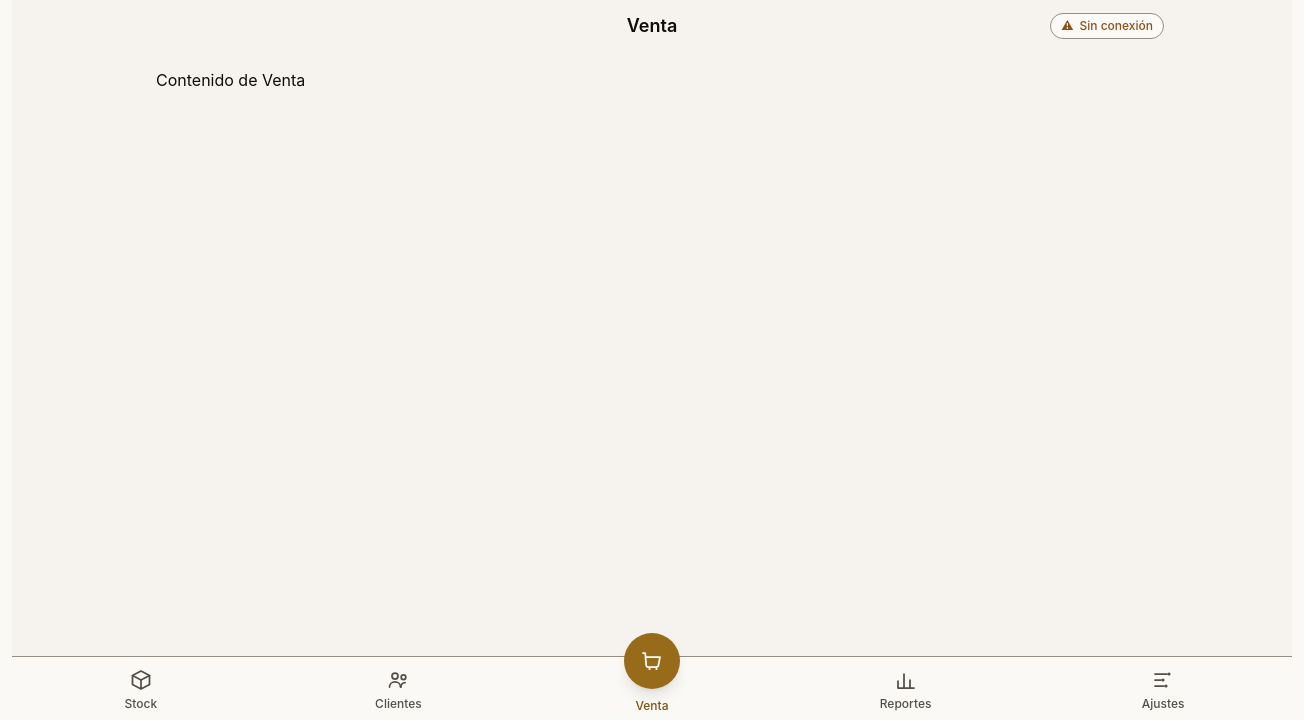
Scenario: Shell › al reconectar (false→true), muestra un toast "Conexión restablecida"
Expected: the text "Conexión restablecida" is not shown
Click the button "Stock". click: [141, 688]
box: [12,657,270,719]
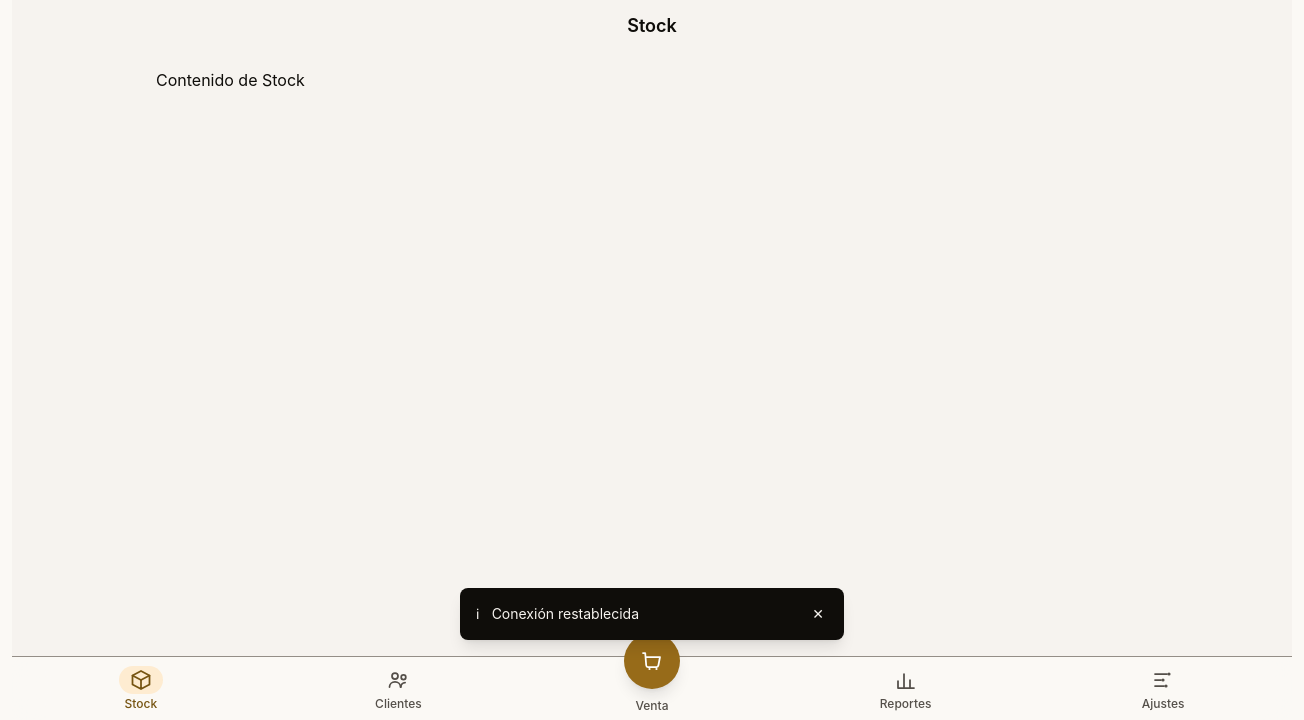
Expected: the text "Conexión restablecida" is shown, [492,605,639,622]
